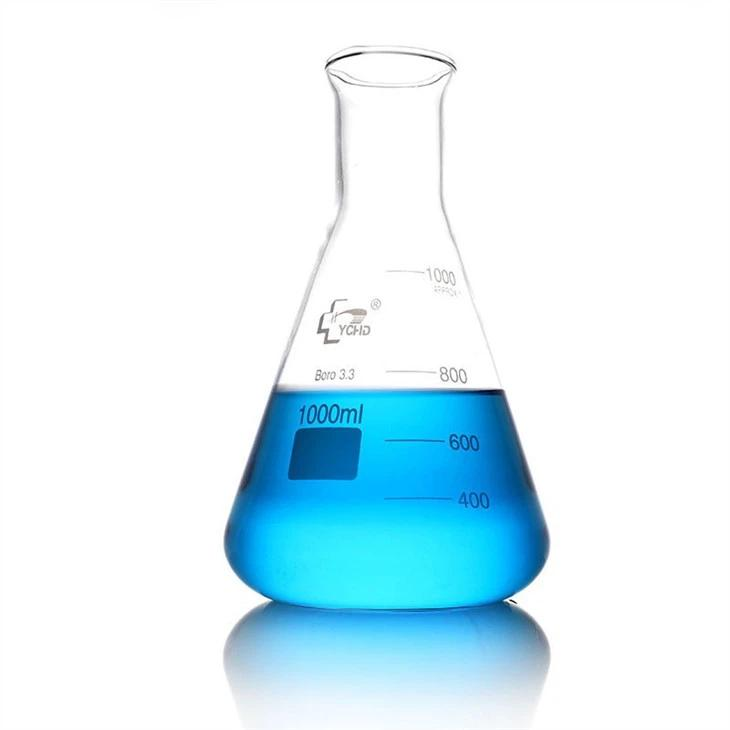Titrarion: (191, 34, 549, 618)
